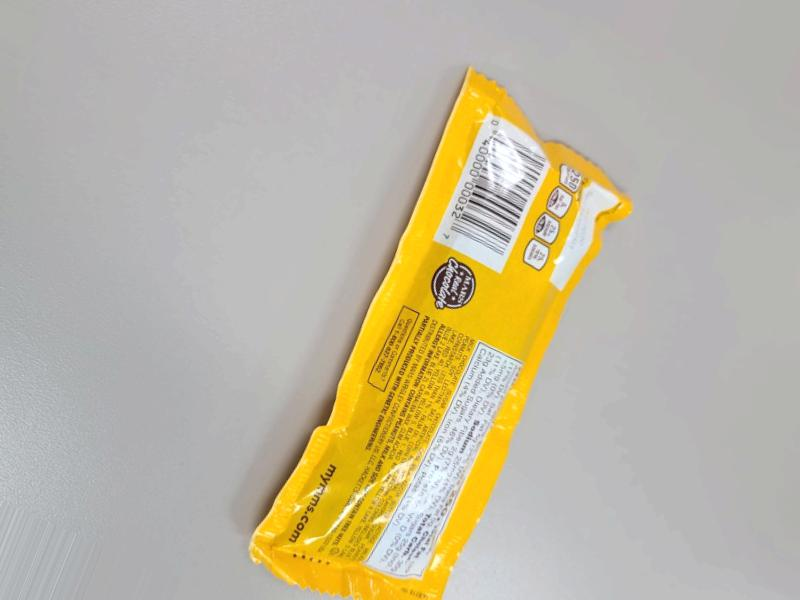m&m: (286, 33, 651, 600)
